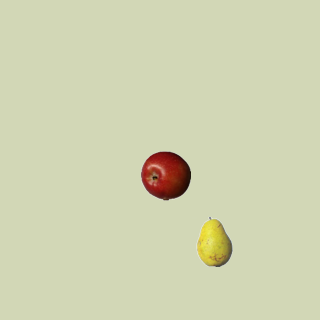Apple Braeburn: (140, 150, 190, 200)
Pear Monster: (189, 216, 239, 266)
